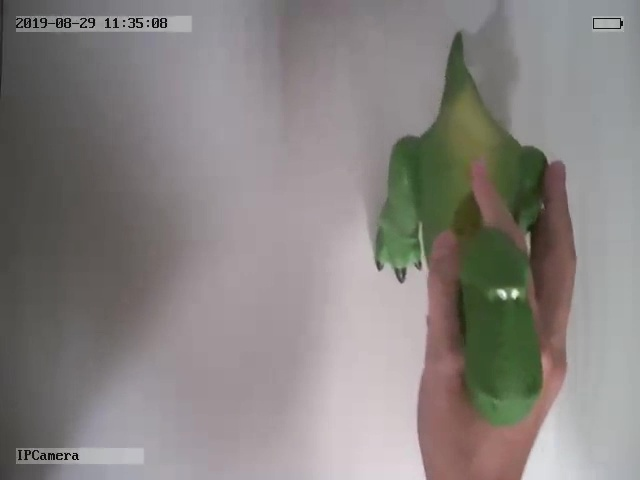rex: (376, 31, 545, 422)
